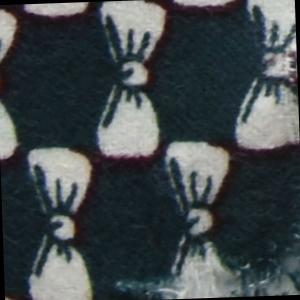Damage: (112, 221, 300, 300), (283, 46, 300, 100)
